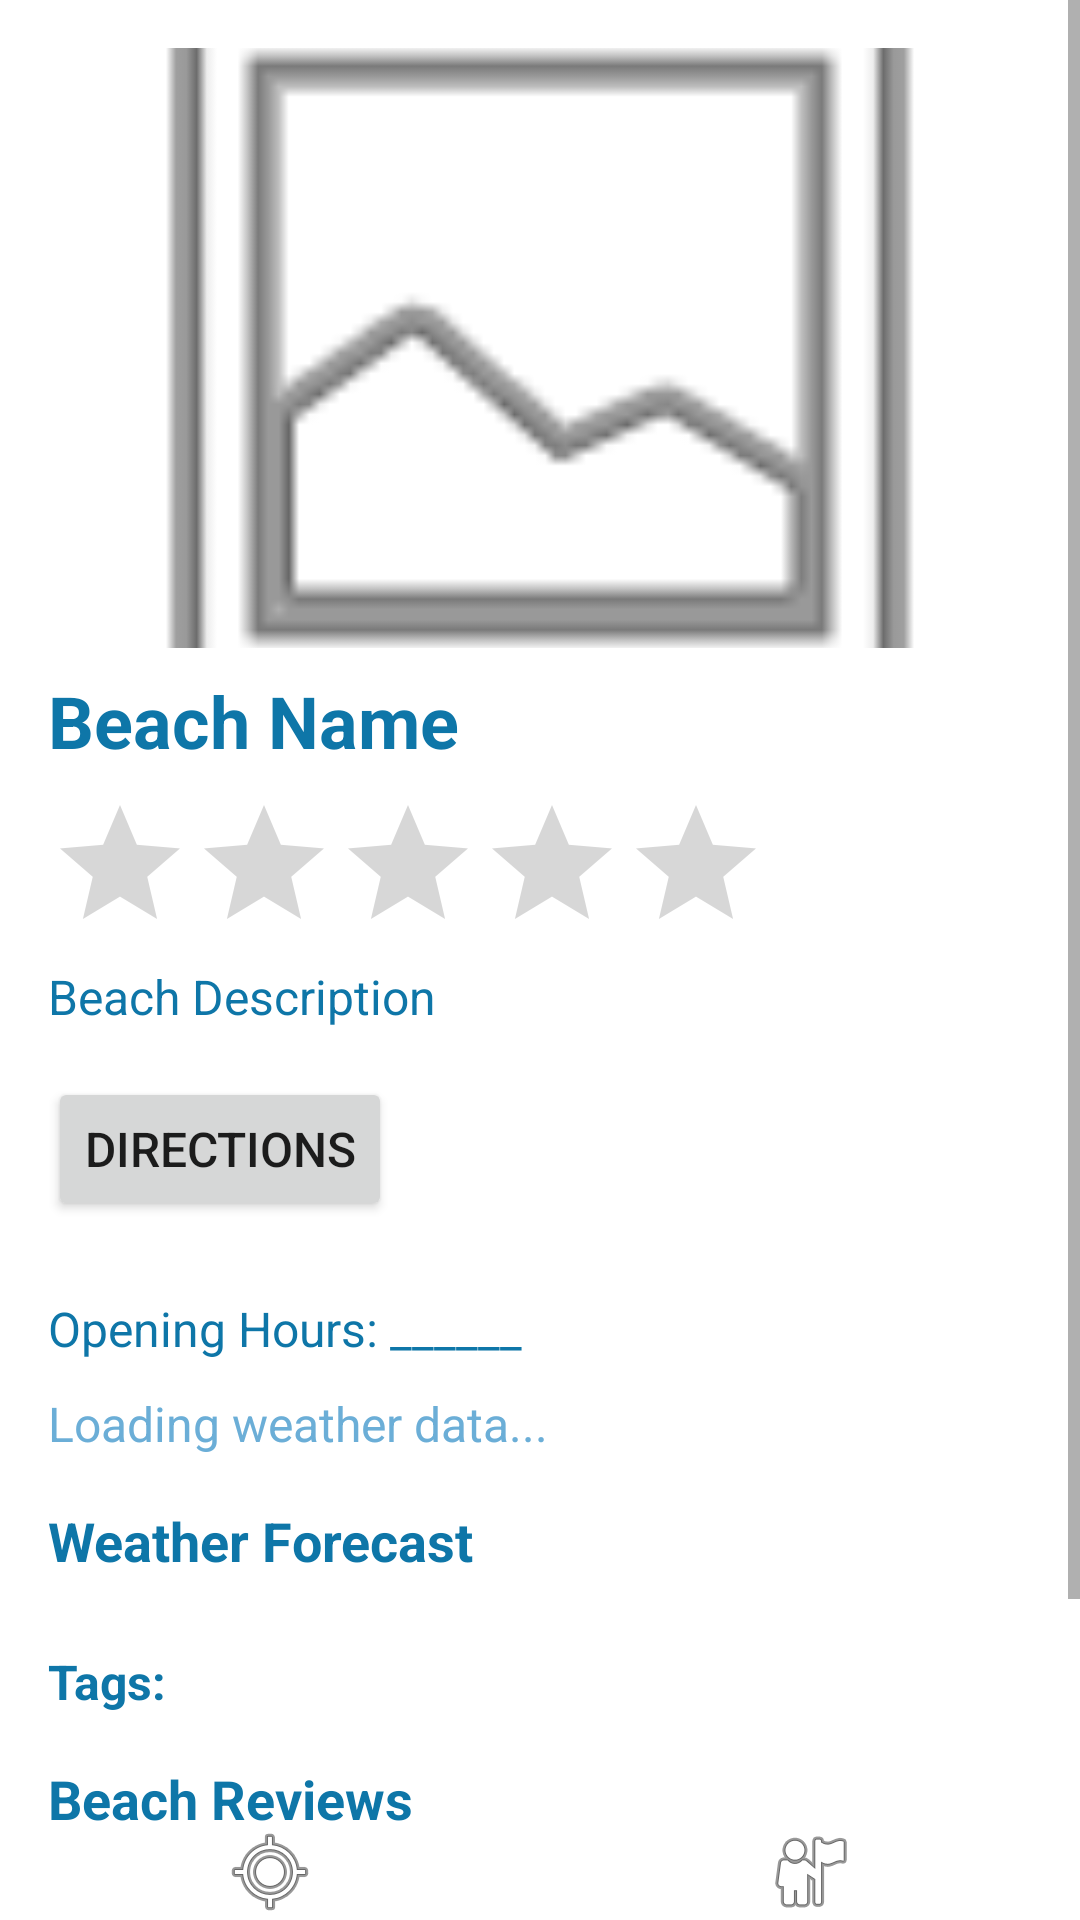

Icons on this 1080 × 1920 Android screen, each with the point to tap as (x=x, y=y):
Map Tab: (x=270, y=1872)
Profile Tab: (x=811, y=1872)
